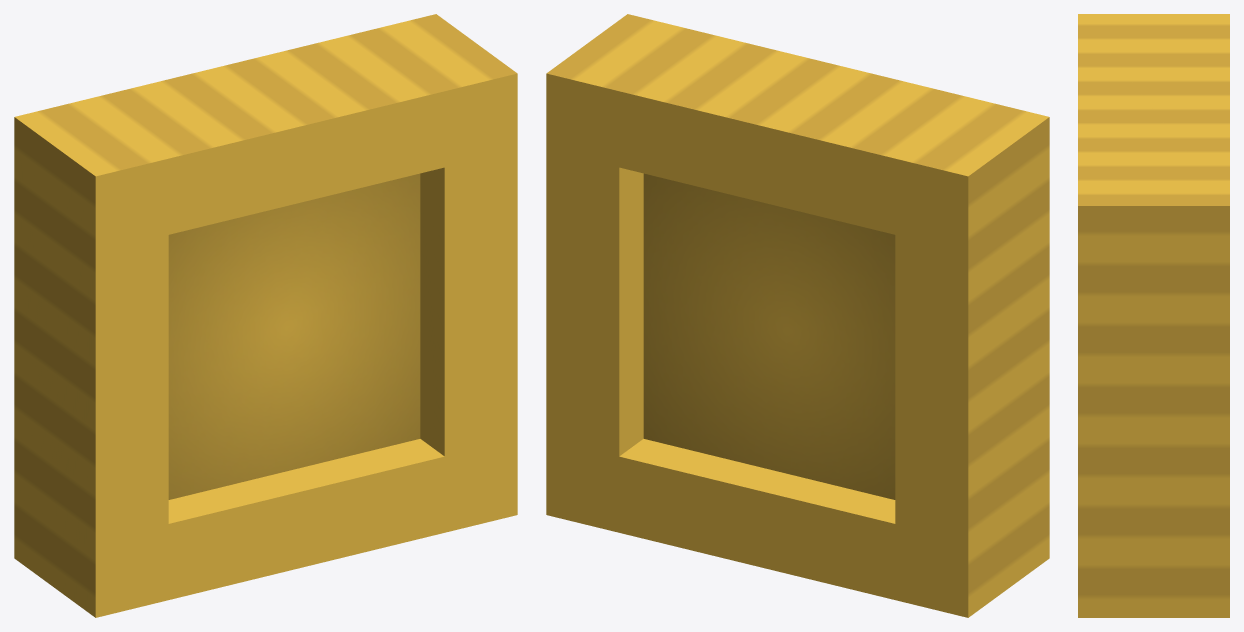
The model's file is item_money.fbx.
3 views of the same model, side by side, from view 1: azimuth 30°, elevation 25°; view 2: azimuth 150°, elevation 25°; view 3: azimuth 270°, elevation 25° (orthographic). The views are drawn at different scales.
Parts seen in each view (by area): view 1: Cube; view 2: Cube; view 3: Cube.
Part boxes in pixels (x1,y1,x2,y2): Cube: [14, 14, 517, 617]; Cube: [546, 14, 1049, 617]; Cube: [1078, 14, 1229, 617].
Bounding box in the file's own units: 419 × 419 × 140.
